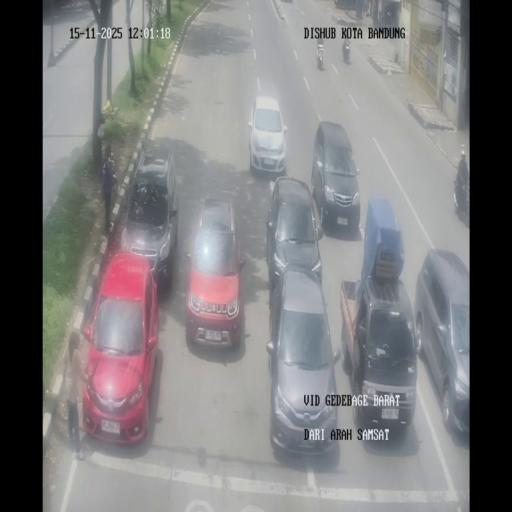car: (81, 251, 160, 443), (266, 270, 340, 458), (341, 275, 418, 436), (414, 252, 470, 440), (184, 197, 246, 350), (120, 142, 180, 288), (264, 174, 322, 301), (312, 122, 360, 236), (248, 95, 286, 176)
motorcycle: (454, 174, 470, 226), (342, 40, 351, 64), (317, 48, 324, 70), (365, 0, 372, 18), (378, 10, 383, 24)
